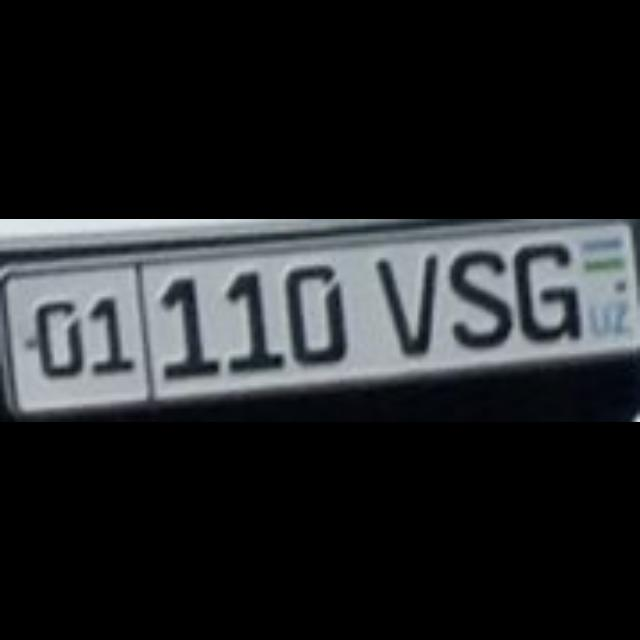0: (282, 261, 344, 361), (32, 296, 78, 372)
1: (158, 271, 215, 375), (222, 264, 278, 368), (85, 293, 128, 372)
G: (511, 240, 579, 340)
S: (444, 247, 508, 347)
V: (372, 250, 432, 350)
